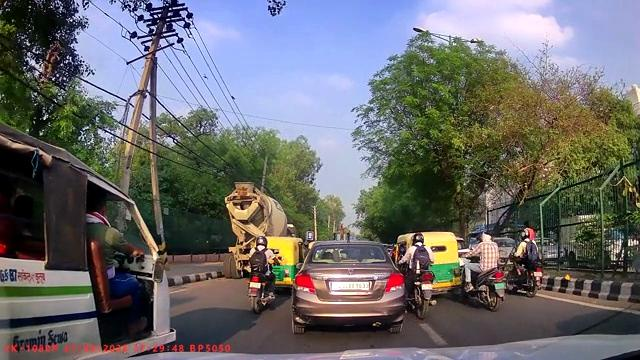motorcycle_with_helmet: (245, 235, 279, 311)
motorcycle_without_helmet: (461, 229, 509, 313)
